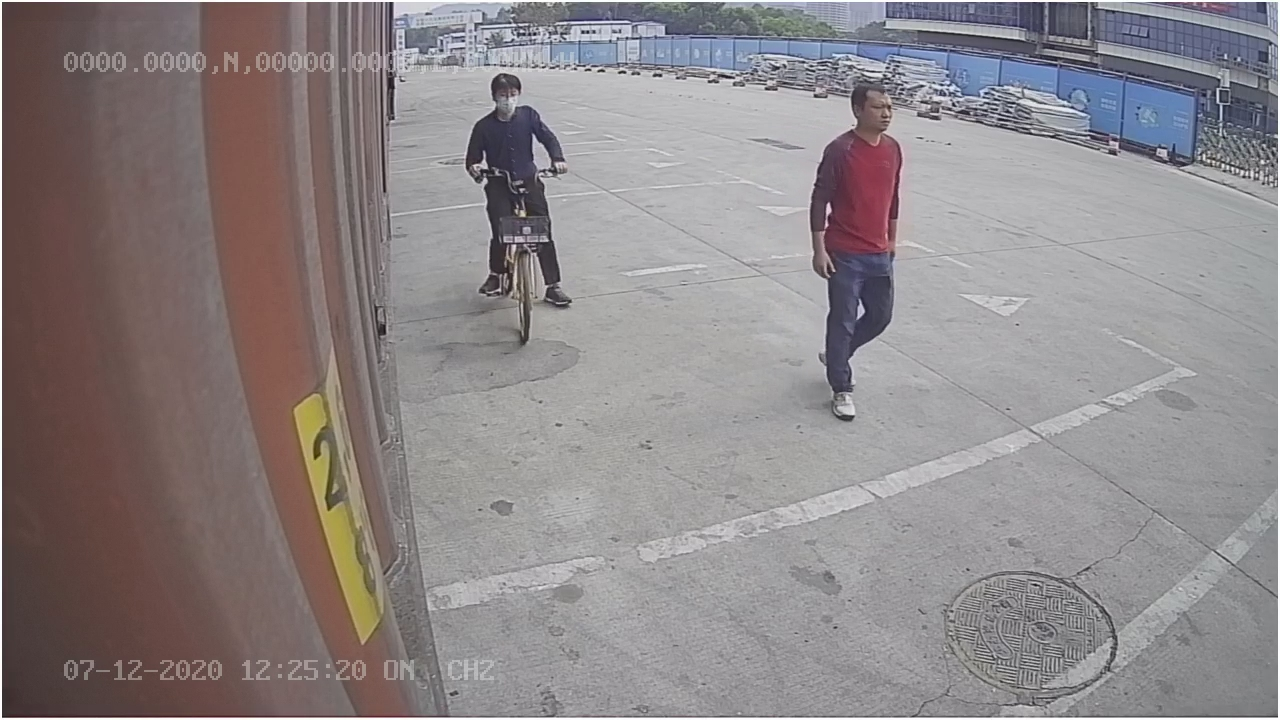person: (801, 76, 909, 426)
